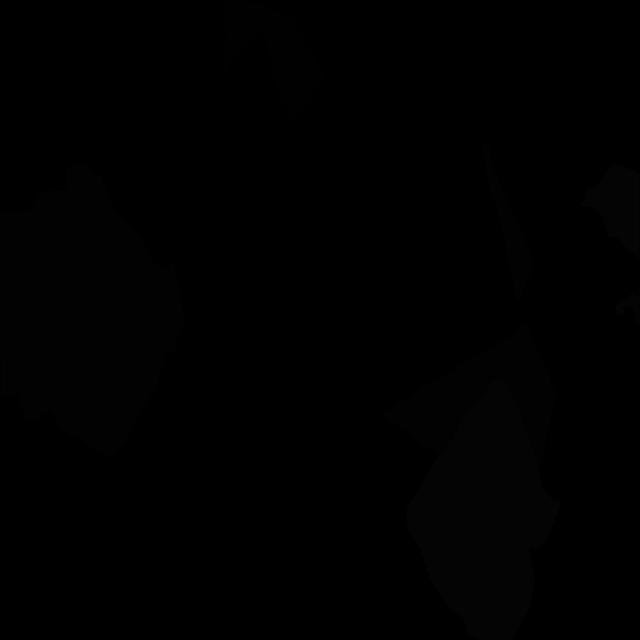cardboard: (18, 163, 185, 457), (380, 321, 556, 471), (0, 189, 81, 400), (482, 141, 534, 303)
rigid_plastic: (218, 2, 325, 121)
soft_plastic: (406, 377, 560, 640), (580, 164, 640, 259), (616, 289, 640, 326)
